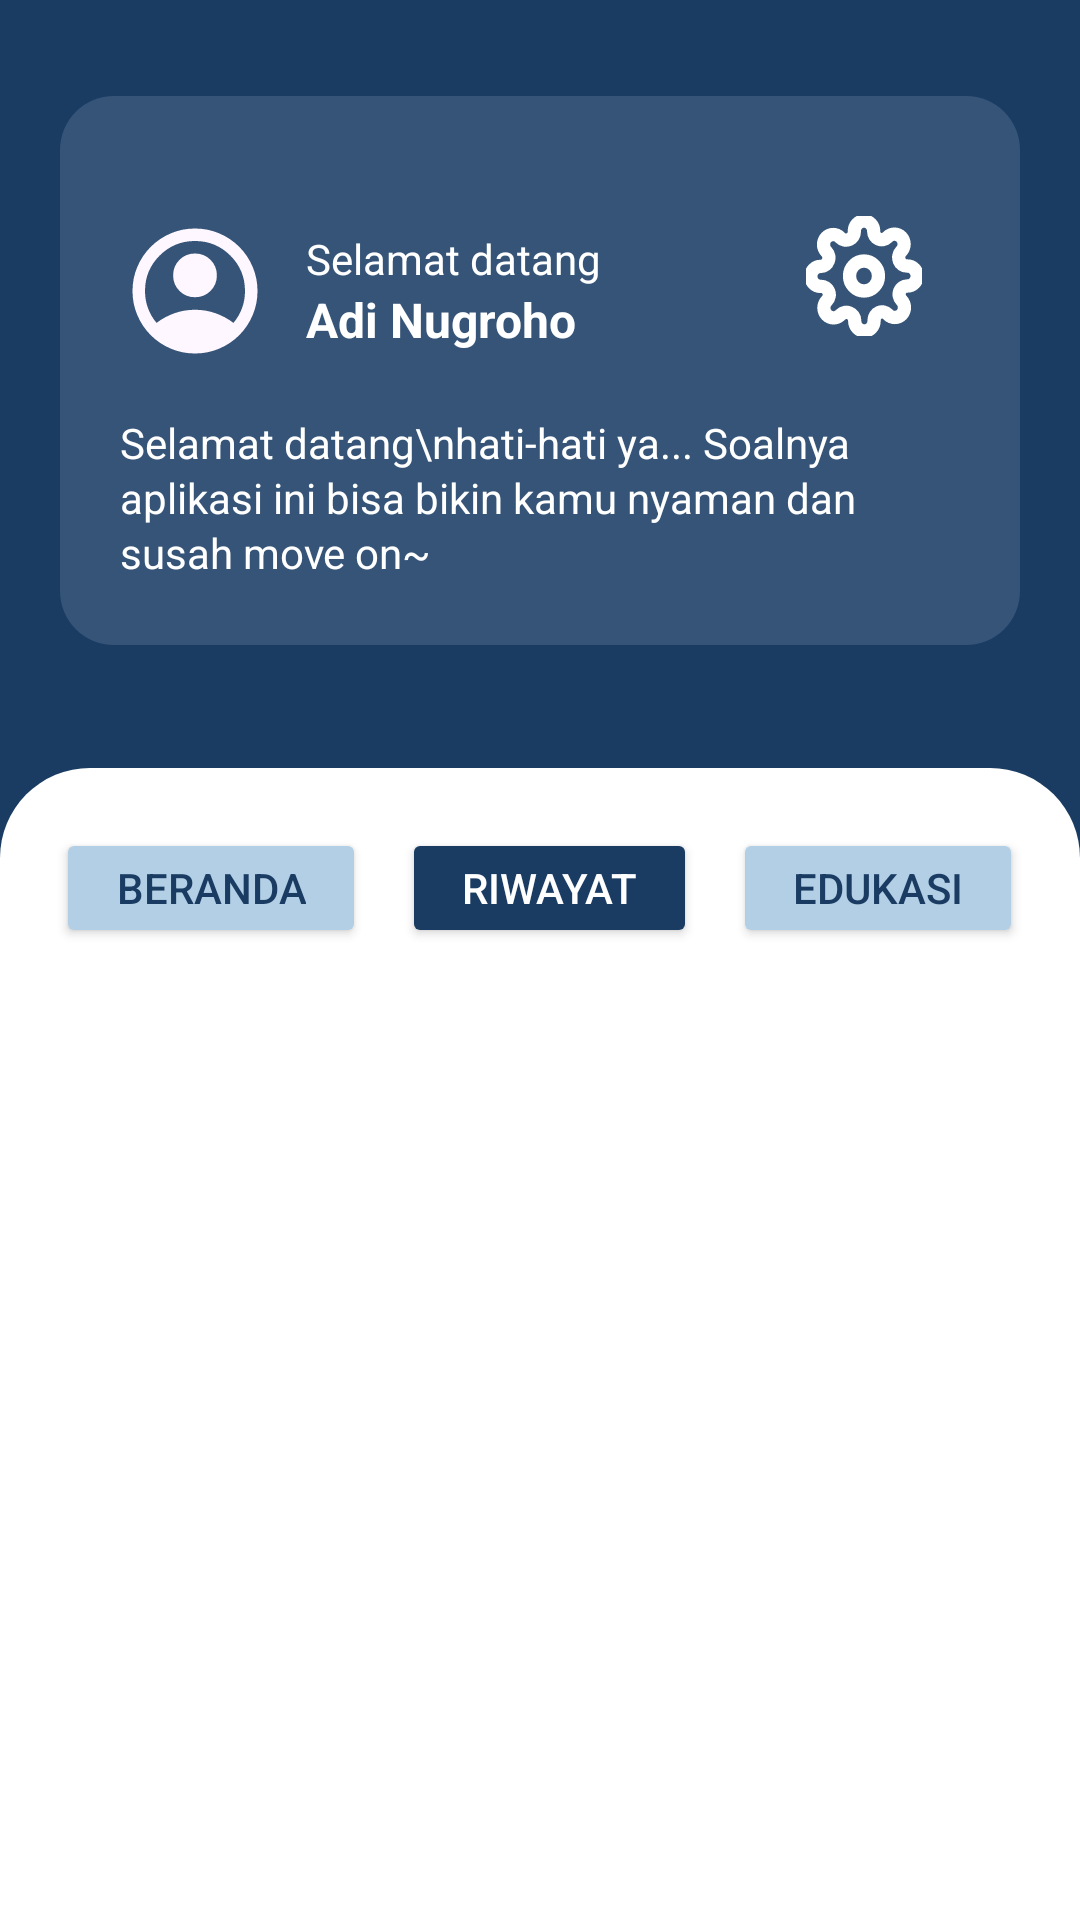

Named icons in this screenshot (1080 x 1920) and their centers, (x,y):
Settings Icon: (864,276)
User Profile Icon: (195,291)
